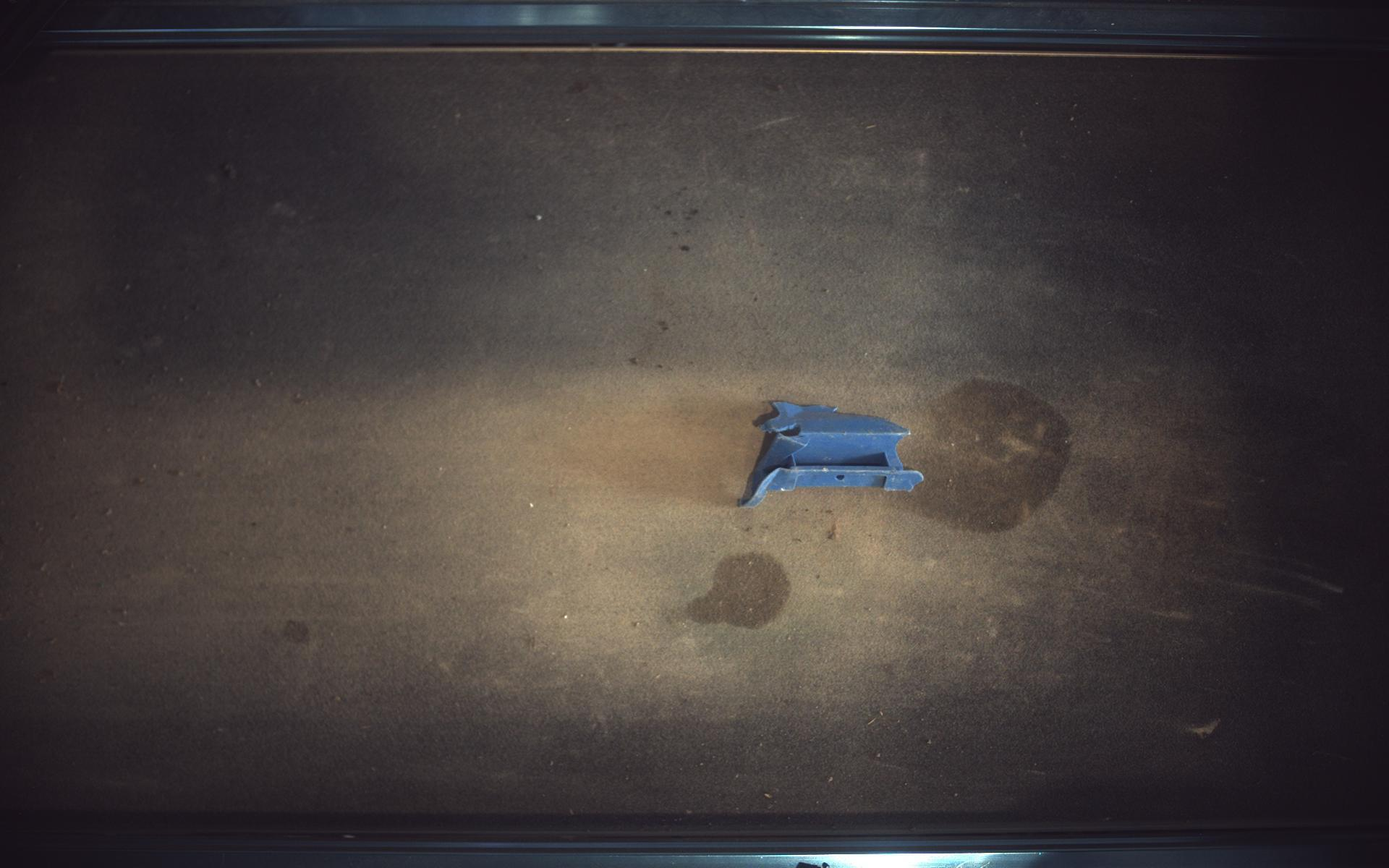plastic: (740, 401, 925, 508)
